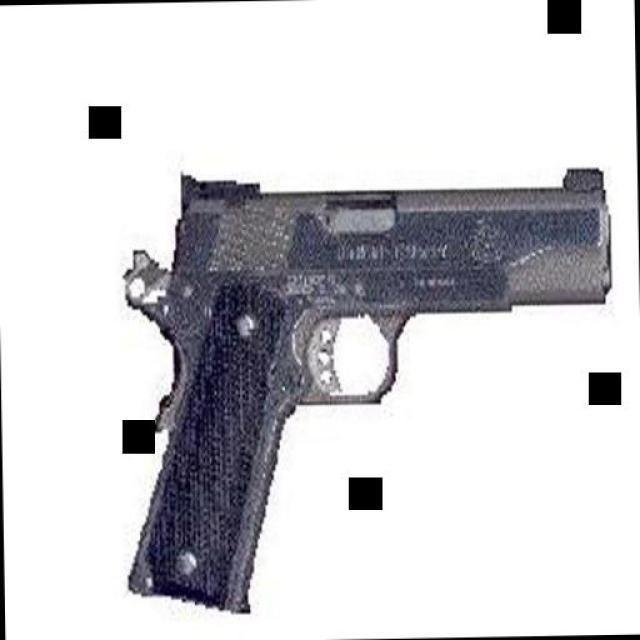gun: (115, 164, 620, 605)
